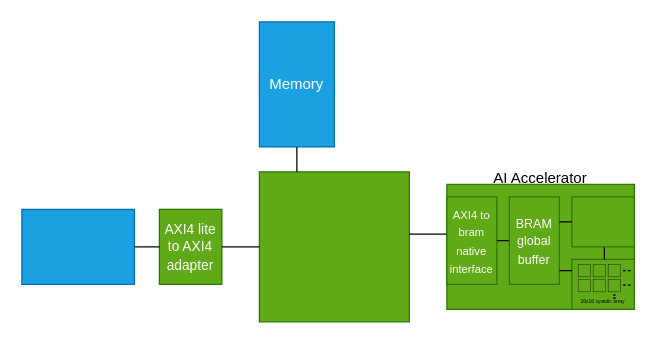
Image size: 656x344. Some labels were removed from this diagram. The shapes that lost their labels are listed below. From the top down, each one's centre as x and y in pixels, then its label:
At point 602,221: "PE array controller".
At point 77,246: "CPU".
At point 333,246: "AXI4 Interconnect".
